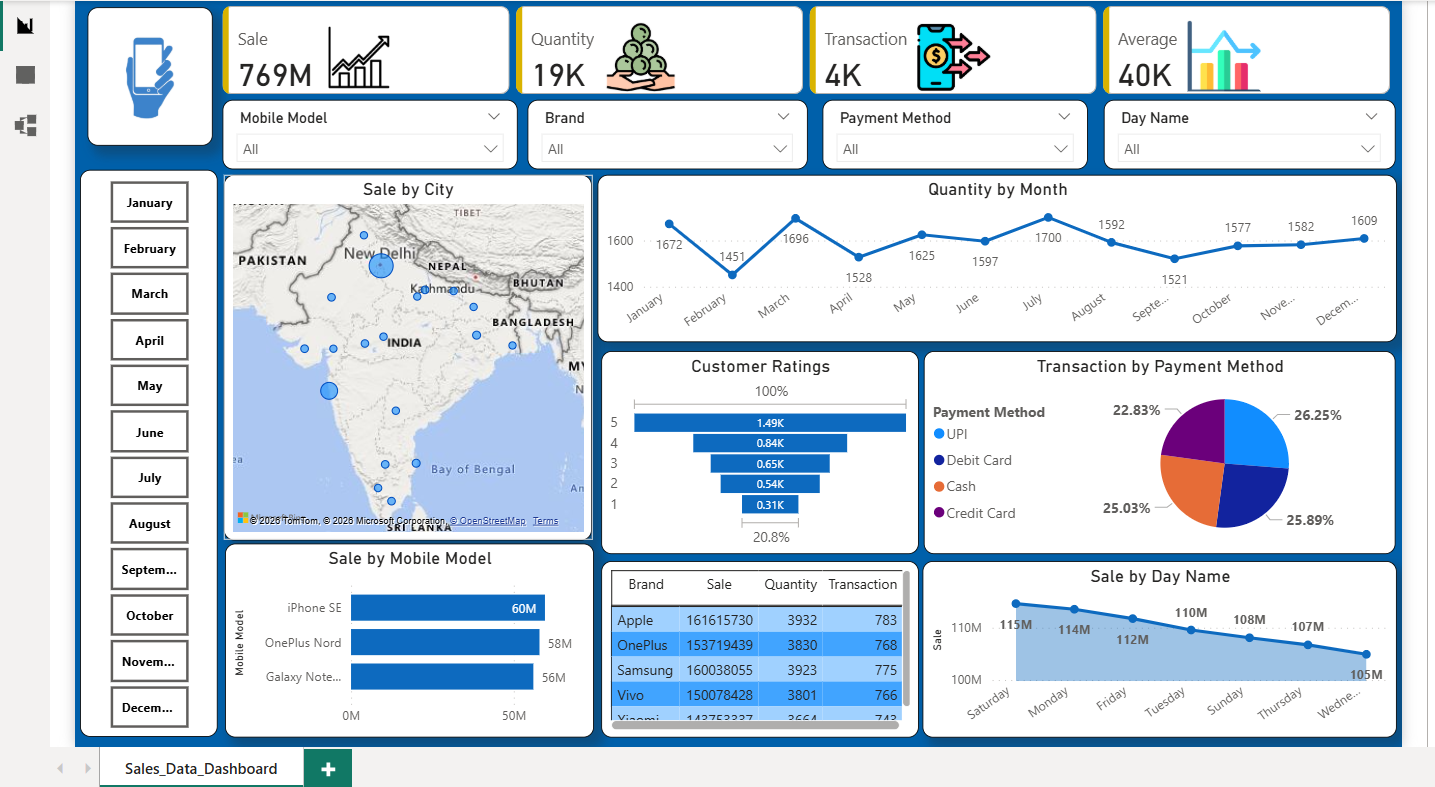

The dashboard page shown, as its layout file describes it:
{"tool":"powerbi","page":{"name":"Sales_Data_Dashboard","canvas":[1280,720],"ordinal":0},"visuals":[{"type":"shape","box":[12.1,6,120.8,133.9],"z":0},{"type":"image","box":[0,7.4,142.9,147.1],"z":1000},{"type":"cardVisual","fields":{"Data":["Sales_Data Dashboard.Sale","Sales_Data Dashboard.Quantity","Sales_Data Dashboard.Transaction","Sales_Data Dashboard.Average"]},"box":[137.5,0,1136.2,95],"z":2000},{"type":"map","fields":{"Category":["Sales_Data Dashboard.City"],"Size":["Sales_Data Dashboard.Sale"]},"box":[143.8,167.5,355,352.5],"z":3000},{"type":"lineChart","fields":{"Category":["Sales_Data Dashboard.Date.Variation.Date Hierarchy.Month","Sales_Data Dashboard.Date.Variation.Date Hierarchy.Day"],"Y":["Sales_Data Dashboard.Quantity"]},"box":[503.8,167.5,771.2,161.2],"z":4000},{"type":"clusteredBarChart","fields":{"Category":["Sales_Data Dashboard.Mobile Model"],"Y":["Sales_Data Dashboard.Sale"]},"box":[144.3,522.9,355.7,186.9],"z":5000},{"type":"pieChart","fields":{"Y":["Sales_Data Dashboard.Transaction"],"Category":["Sales_Data Dashboard.Payment Method"]},"box":[818.8,337.5,455,196.2],"z":6000},{"type":"funnel","title":"Customer Ratings","fields":{"Category":["Sales_Data Dashboard.Customer Ratings"],"Y":["CountNonNull(Sales_Data Dashboard.Customer Ratings)"]},"box":[507.5,337.5,306.2,196.2],"z":7000},{"type":"areaChart","fields":{"Category":["Sales_Data Dashboard.Day Name"],"Y":["Sales_Data Dashboard.Sale"]},"box":[817.1,540,458,170],"z":8000},{"type":"tableEx","fields":{"Values":["Sales_Data Dashboard.Brand","Sales_Data Dashboard.Sale","Sales_Data Dashboard.Quantity","Sales_Data Dashboard.Transaction"]},"box":[507.5,540,306.2,170],"z":9000},{"type":"slicer","fields":{"Values":["Sales_Data Dashboard.Mobile Model"]},"box":[142.5,95,285,67.5],"z":10000},{"type":"slicer","fields":{"Values":["Sales_Data Dashboard.Brand"]},"box":[436.2,95,270,67.5],"z":11000},{"type":"slicer","fields":{"Values":["Sales_Data Dashboard.Day Name"]},"box":[992.5,95,281.2,67.5],"z":12000},{"type":"slicer","fields":{"Values":["Sales_Data Dashboard.Payment Method"]},"box":[721.2,95,256.2,67.5],"z":13000},{"type":"slicer","fields":{"Values":["Sales_Data Dashboard.Date.Variation.Date Hierarchy.Month"]},"box":[4.8,162.8,132.7,547.5],"z":14000}]}

Visuals, with their boxes in screenshot pixels (x1, y1, x2, y2):
shape: bbox=(84, 3, 209, 142)
image: bbox=(71, 4, 220, 157)
cardVisual - Sales_Data Dashboard.Sale x Sales_Data Dashboard.Quantity: bbox=(214, 0, 1398, 95)
map - Sales_Data Dashboard.City x Sales_Data Dashboard.Sale: bbox=(221, 171, 591, 538)
lineChart - Sales_Data Dashboard.Date.Variation.Date Hierarchy.Month x Sales_Data Dashboard.Date.Variation.Date Hierarchy.Day: bbox=(596, 171, 1399, 339)
clusteredBarChart - Sales_Data Dashboard.Mobile Model x Sales_Data Dashboard.Sale: bbox=(221, 541, 592, 736)
pieChart - Sales_Data Dashboard.Transaction x Sales_Data Dashboard.Payment Method: bbox=(924, 348, 1398, 552)
"Customer Ratings" funnel: bbox=(600, 348, 919, 552)
areaChart - Sales_Data Dashboard.Day Name x Sales_Data Dashboard.Sale: bbox=(922, 559, 1399, 736)
tableEx - Sales_Data Dashboard.Brand x Sales_Data Dashboard.Sale: bbox=(600, 559, 919, 736)
slicer - Sales_Data Dashboard.Mobile Model: bbox=(219, 95, 516, 166)
slicer - Sales_Data Dashboard.Brand: bbox=(525, 95, 807, 166)
slicer - Sales_Data Dashboard.Day Name: bbox=(1105, 95, 1398, 166)
slicer - Sales_Data Dashboard.Payment Method: bbox=(822, 95, 1089, 166)
slicer - Sales_Data Dashboard.Date.Variation.Date Hierarchy.Month: bbox=(76, 166, 214, 736)
